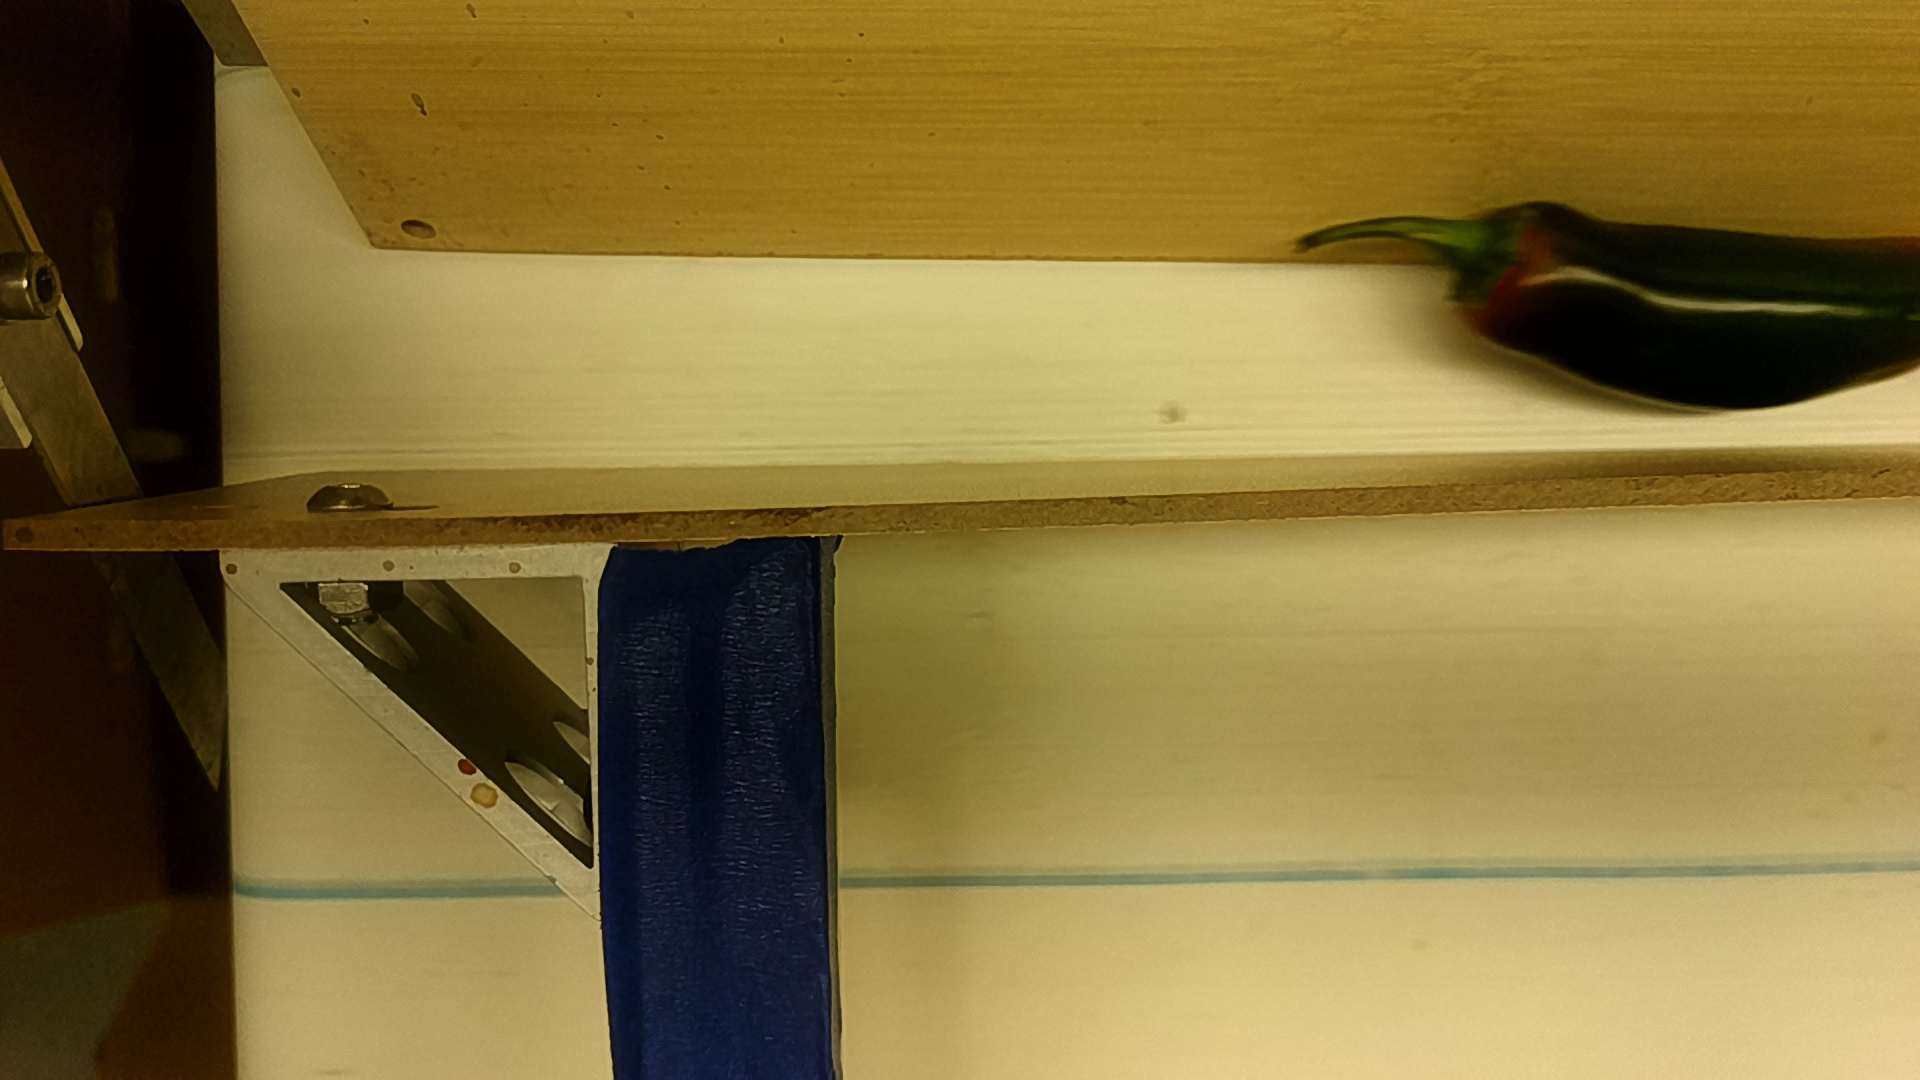Cut Point: (1447, 189, 1543, 355)
